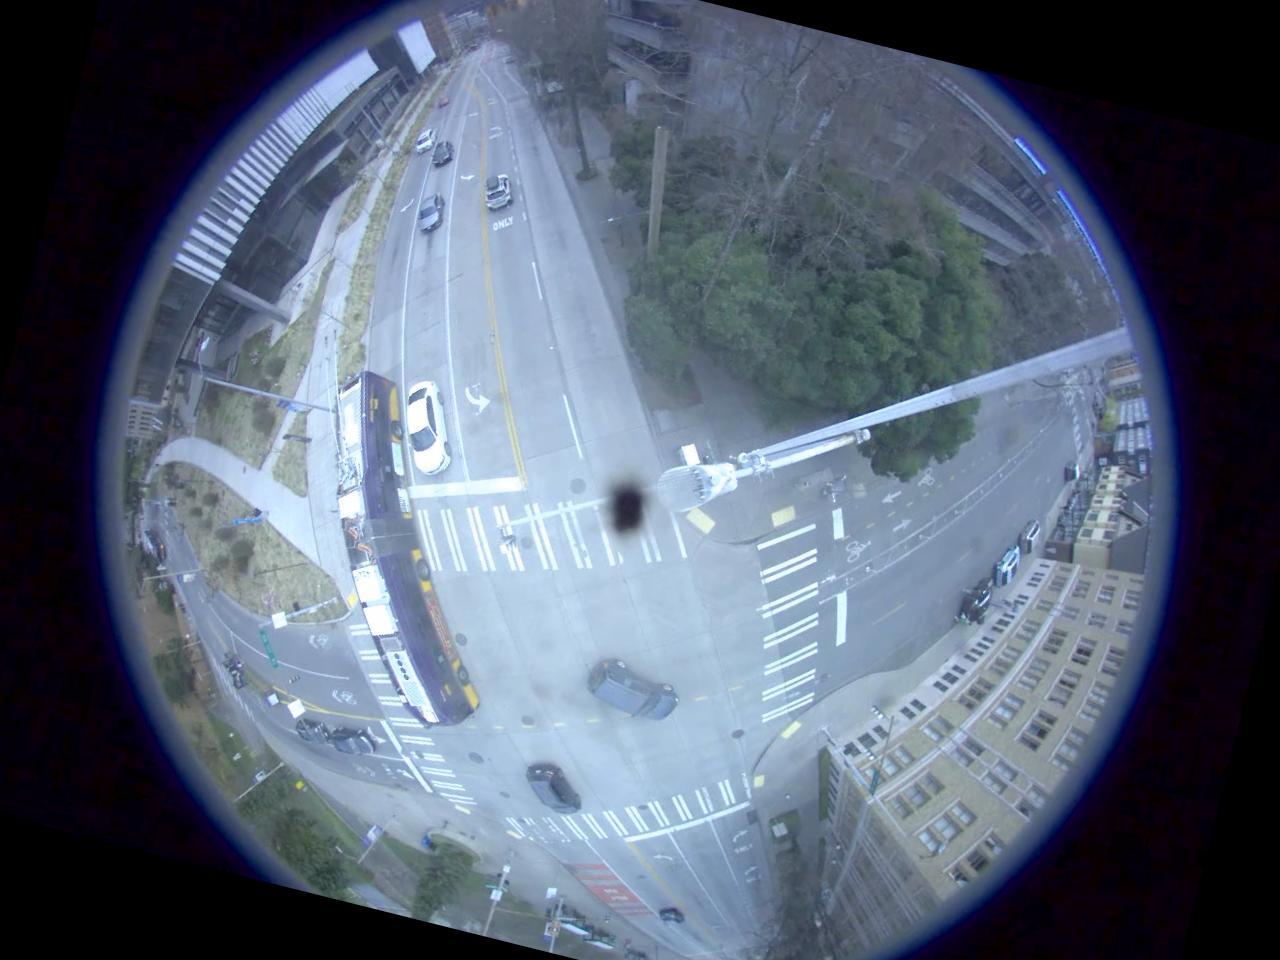bus: (266, 368, 546, 738)
car: (384, 372, 468, 480), (580, 652, 682, 734), (518, 758, 586, 818), (472, 170, 521, 220), (328, 723, 382, 764), (986, 540, 1026, 592), (959, 574, 991, 629), (411, 190, 448, 230), (292, 713, 332, 748), (1012, 514, 1046, 555), (426, 137, 458, 174), (652, 903, 689, 933), (412, 122, 438, 158)
person: (246, 505, 271, 522)
